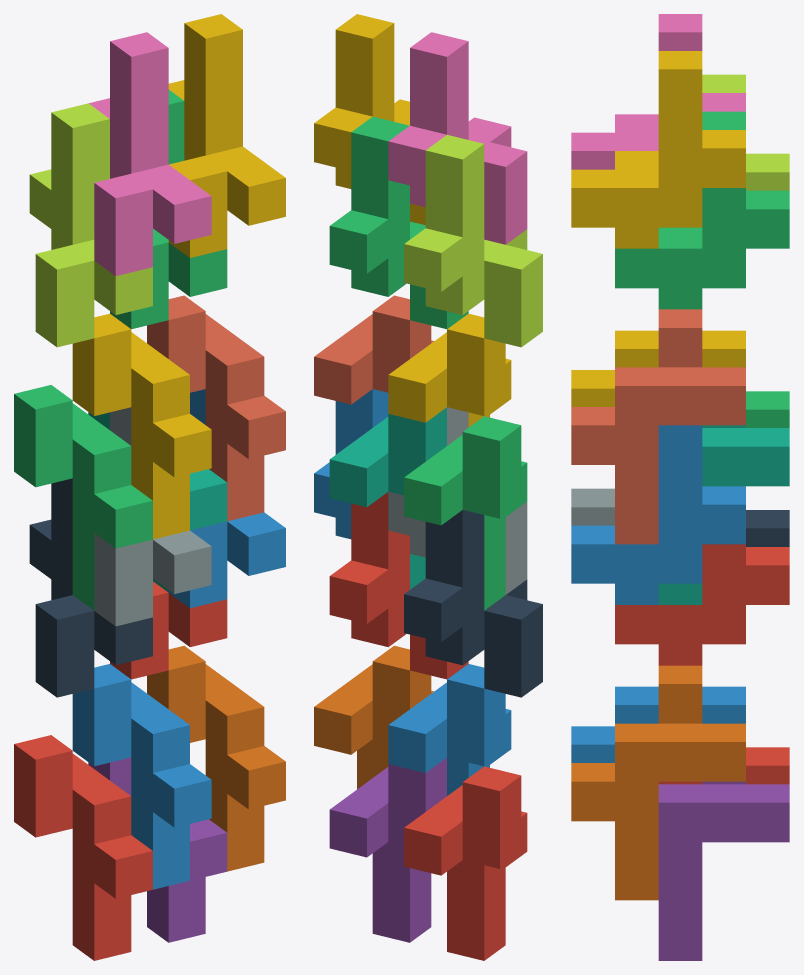
Rendered from tiling.obj.
3 views of the same model, side by side, from view 1: azimuth 30°, elevation 25°; view 2: azimuth 150°, elevation 25°; view 3: azimuth 270°, elevation 25° (orthographic).
Visible parts, largest first — view 1: copy_2_domain_4, copy_1_domain_1, copy_2_domain_3, copy_1_domain_2, copy_1_domain_4, copy_1_domain_3, copy_2_domain_8, copy_1_domain_6, copy_1_domain_8, copy_2_domain_1, copy_2_domain_2, copy_1_domain_5 (+4 smaller); view 2: copy_2_domain_3, copy_2_domain_1, copy_1_domain_1, copy_2_domain_4, copy_1_domain_5, copy_1_domain_3, copy_2_domain_7, copy_1_domain_2, copy_2_domain_5, copy_1_domain_4, copy_2_domain_8, copy_1_domain_6 (+4 smaller); view 3: copy_1_domain_6, copy_1_domain_8, copy_2_domain_8, copy_2_domain_6, copy_2_domain_7, copy_1_domain_5, copy_2_domain_5, copy_1_domain_7, copy_2_domain_4, copy_1_domain_2, copy_1_domain_4, copy_2_domain_3 (+4 smaller).
Boxes of the visible parts, x1,y1,x2,y2 form: copy_2_domain_4: [89, 32, 211, 275]; copy_1_domain_1: [14, 735, 152, 960]; copy_2_domain_3: [29, 103, 152, 347]; copy_1_domain_2: [72, 664, 211, 889]; copy_1_domain_4: [72, 313, 211, 539]; copy_1_domain_3: [14, 385, 152, 610]; copy_2_domain_8: [168, 14, 285, 257]; copy_1_domain_6: [147, 645, 285, 871]; copy_1_domain_8: [147, 295, 285, 521]; copy_2_domain_1: [29, 478, 152, 697]; copy_2_domain_2: [94, 407, 211, 626]; copy_1_domain_5: [88, 757, 227, 942]; copy_2_domain_3: [404, 135, 542, 347]; copy_2_domain_1: [404, 510, 542, 697]; copy_1_domain_1: [404, 766, 527, 960]; copy_2_domain_4: [388, 32, 527, 244]; copy_1_domain_5: [329, 757, 446, 942]; copy_1_domain_3: [404, 416, 527, 610]; copy_2_domain_7: [329, 116, 468, 329]; copy_1_domain_2: [388, 664, 511, 795]; copy_2_domain_5: [329, 492, 468, 679]; copy_1_domain_4: [388, 313, 511, 427]; copy_2_domain_8: [314, 14, 425, 225]; copy_1_domain_6: [314, 645, 433, 789]; copy_1_domain_6: [571, 665, 745, 900]; copy_1_domain_8: [571, 309, 745, 544]; copy_2_domain_8: [571, 51, 745, 248]; copy_2_domain_6: [571, 425, 745, 604]; copy_2_domain_7: [615, 111, 789, 309]; copy_1_domain_5: [658, 781, 789, 960]; copy_2_domain_5: [615, 544, 789, 665]; copy_1_domain_7: [658, 425, 789, 604]; copy_2_domain_4: [571, 14, 745, 169]; copy_1_domain_2: [571, 686, 745, 762]; copy_1_domain_4: [571, 330, 745, 406]; copy_2_domain_3: [702, 74, 789, 190].
Size of the model in its own units: 5 by 23 by 5.
